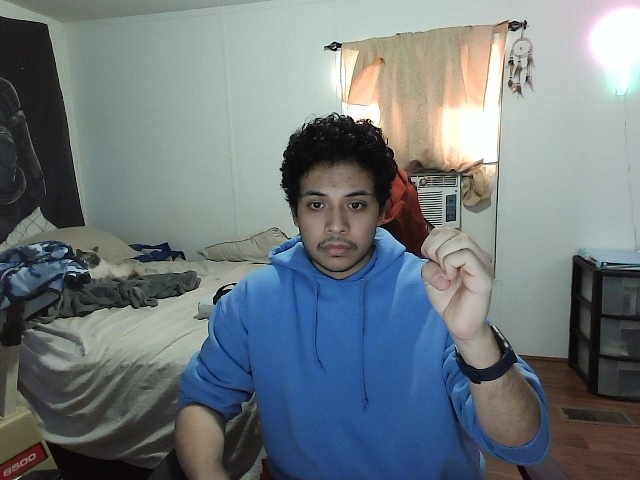E: (416, 223, 501, 342)
